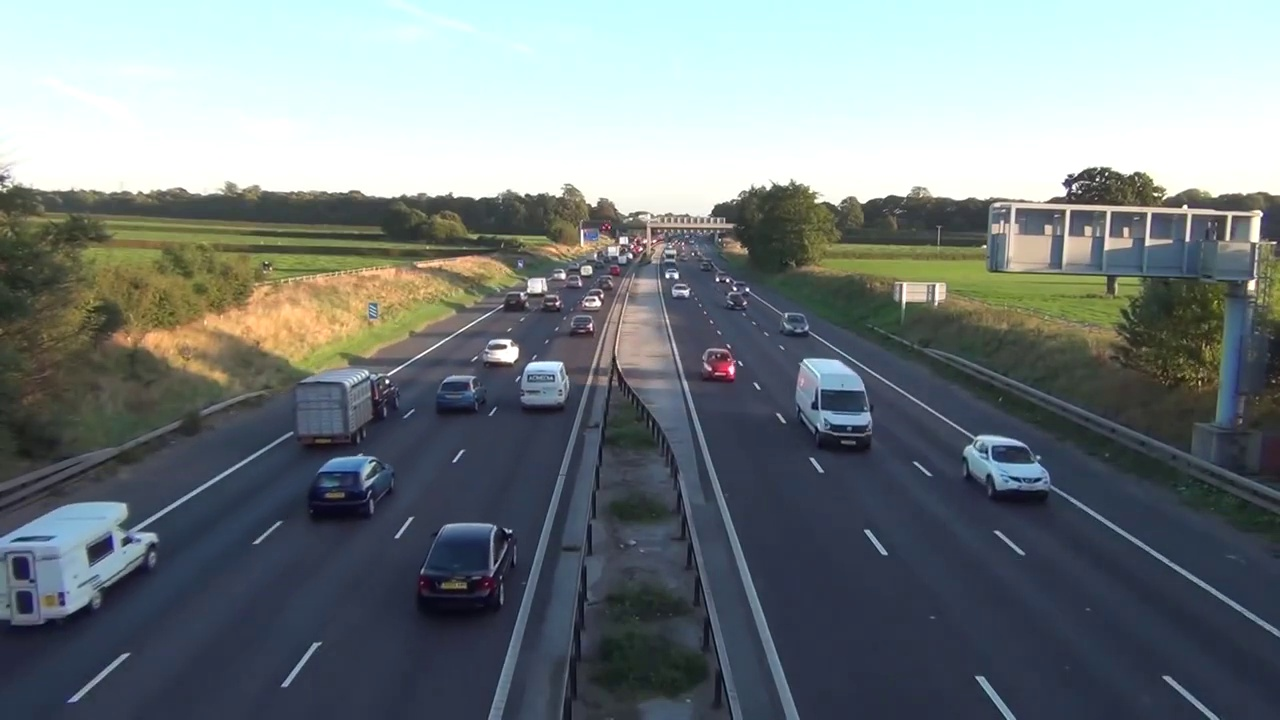bus: (0, 501, 160, 624), (417, 523, 519, 616), (794, 358, 874, 450), (960, 434, 1050, 503), (305, 455, 394, 519), (520, 361, 570, 411), (435, 375, 486, 413), (369, 374, 400, 420), (700, 348, 736, 382), (482, 337, 520, 365), (779, 312, 809, 337), (570, 315, 594, 334), (504, 292, 528, 311), (725, 292, 748, 310), (541, 295, 565, 311), (671, 283, 690, 300), (581, 297, 602, 312), (731, 281, 751, 294), (664, 268, 680, 280), (715, 273, 731, 284)
